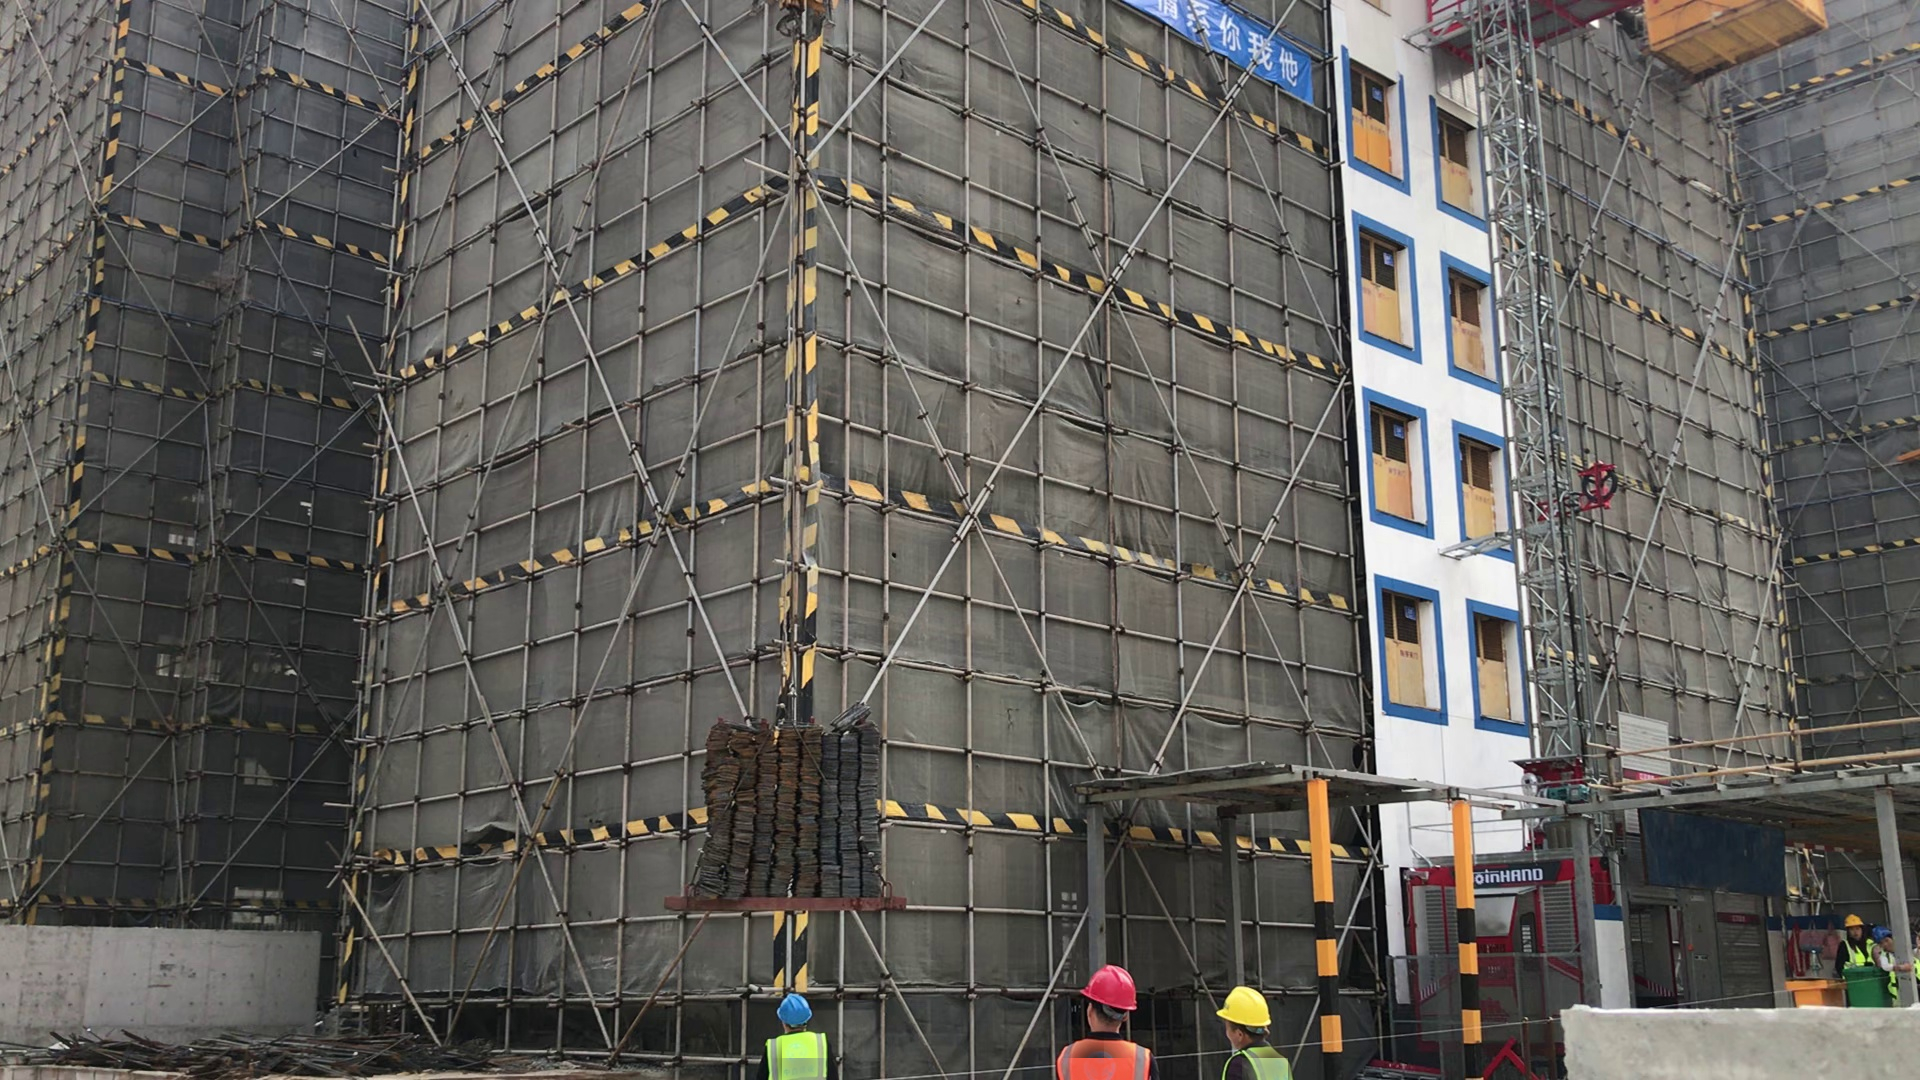helmet: (1078, 956, 1135, 1019), (1217, 982, 1287, 1034), (776, 992, 818, 1028), (1843, 912, 1865, 928), (1875, 927, 1893, 940)
person: (1041, 949, 1158, 1076), (1211, 979, 1296, 1080), (755, 987, 832, 1075), (1874, 923, 1913, 1001), (1836, 911, 1874, 970)
vest: (1053, 1032, 1160, 1080), (765, 1033, 827, 1080), (1223, 1046, 1291, 1080), (1882, 948, 1906, 1002), (1842, 936, 1874, 968)
